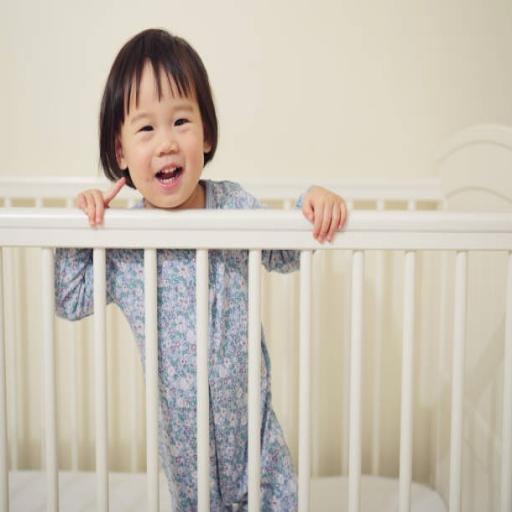baby: (78, 30, 261, 225)
crib: (0, 127, 511, 511)
